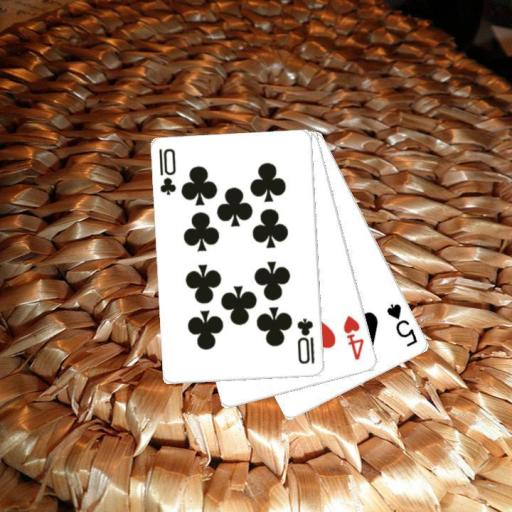10C: (156, 145, 178, 197), (295, 315, 317, 366)
4H: (341, 313, 366, 362)
5S: (384, 300, 420, 349)
